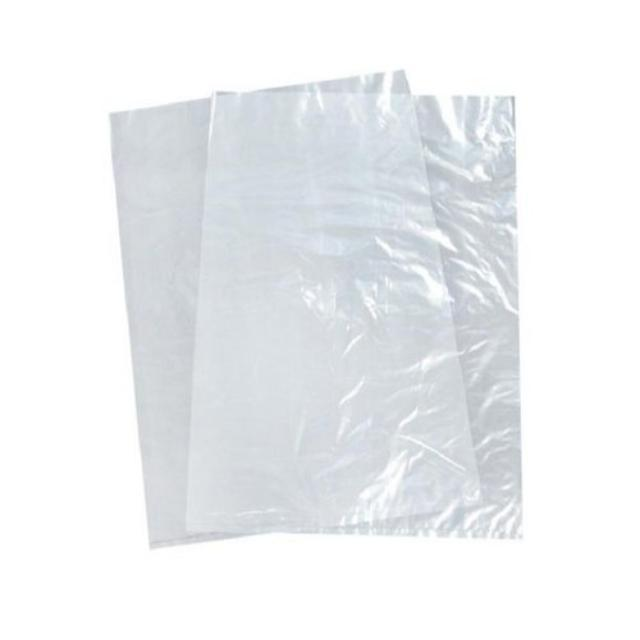plastic: (110, 70, 520, 545)
